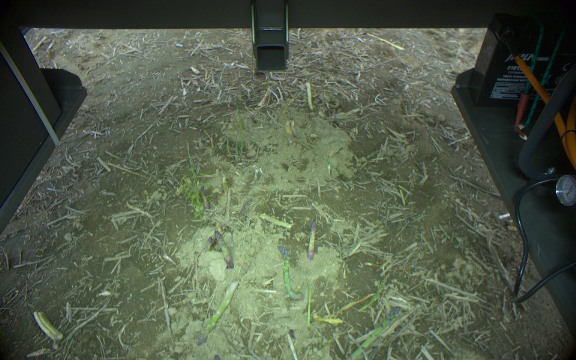aspa: (351, 306, 403, 360), (197, 280, 240, 344), (276, 244, 301, 300), (214, 231, 233, 269), (306, 220, 317, 262), (304, 80, 314, 111), (198, 185, 210, 209)
